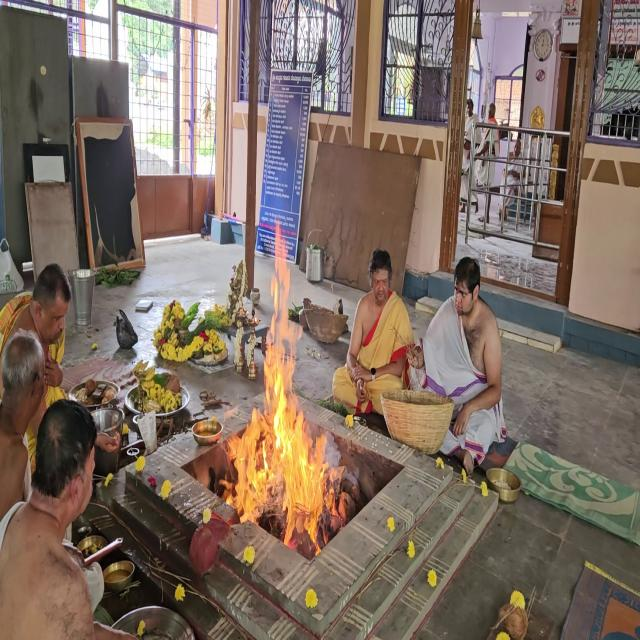fire: (210, 214, 352, 571)
